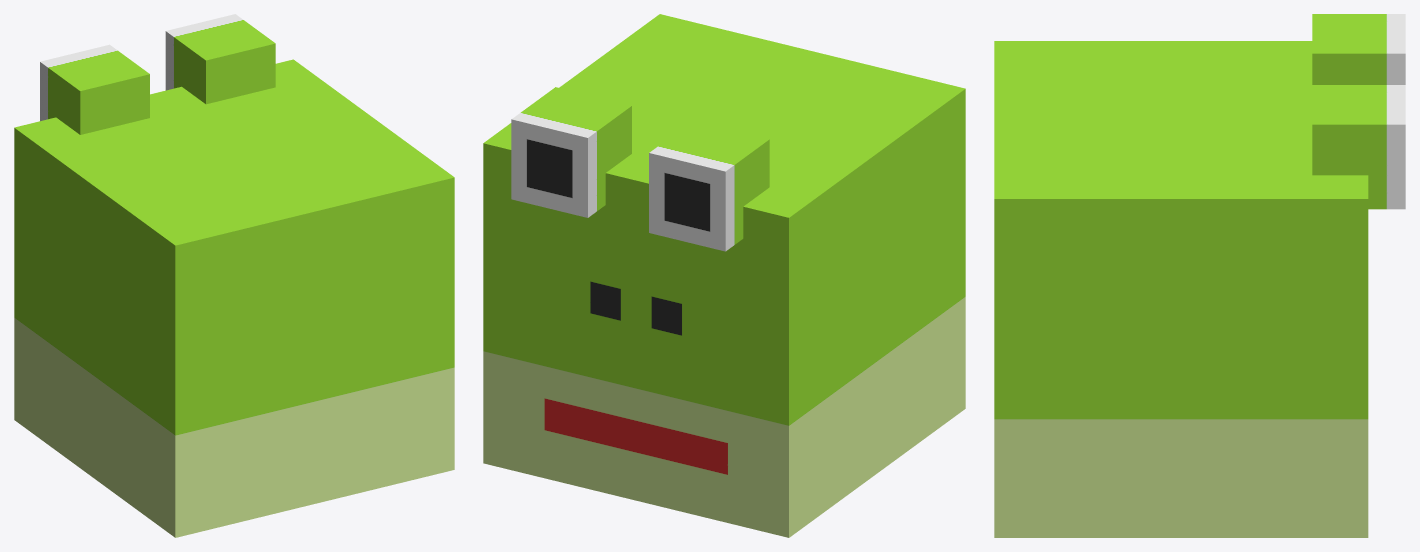
Rendered from Char20.fbx.
3 views of the same model, side by side, from view 1: azimuth 30°, elevation 25°; view 2: azimuth 150°, elevation 25°; view 3: azimuth 270°, elevation 25° (orthographic). The views are drawn at different scales.
Parts seen in each view (by area): view 1: Box; view 2: Box; view 3: Box.
Part boxes in pixels (x1,y1,x2,y2): Box: (14, 14, 454, 537); Box: (483, 14, 965, 537); Box: (994, 14, 1405, 537).
Size of the model in its own units: 20 by 23 by 22.
